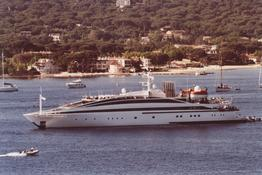otherboat: (213, 84, 231, 94)
yacht: (24, 67, 257, 133), (65, 76, 88, 91)
